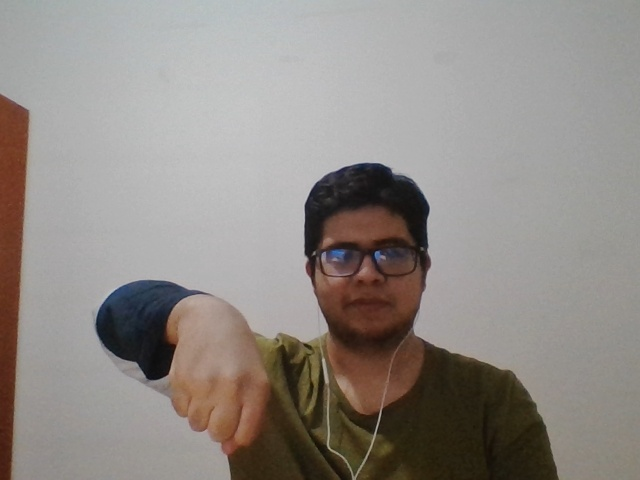Yes: (152, 275, 279, 462)
